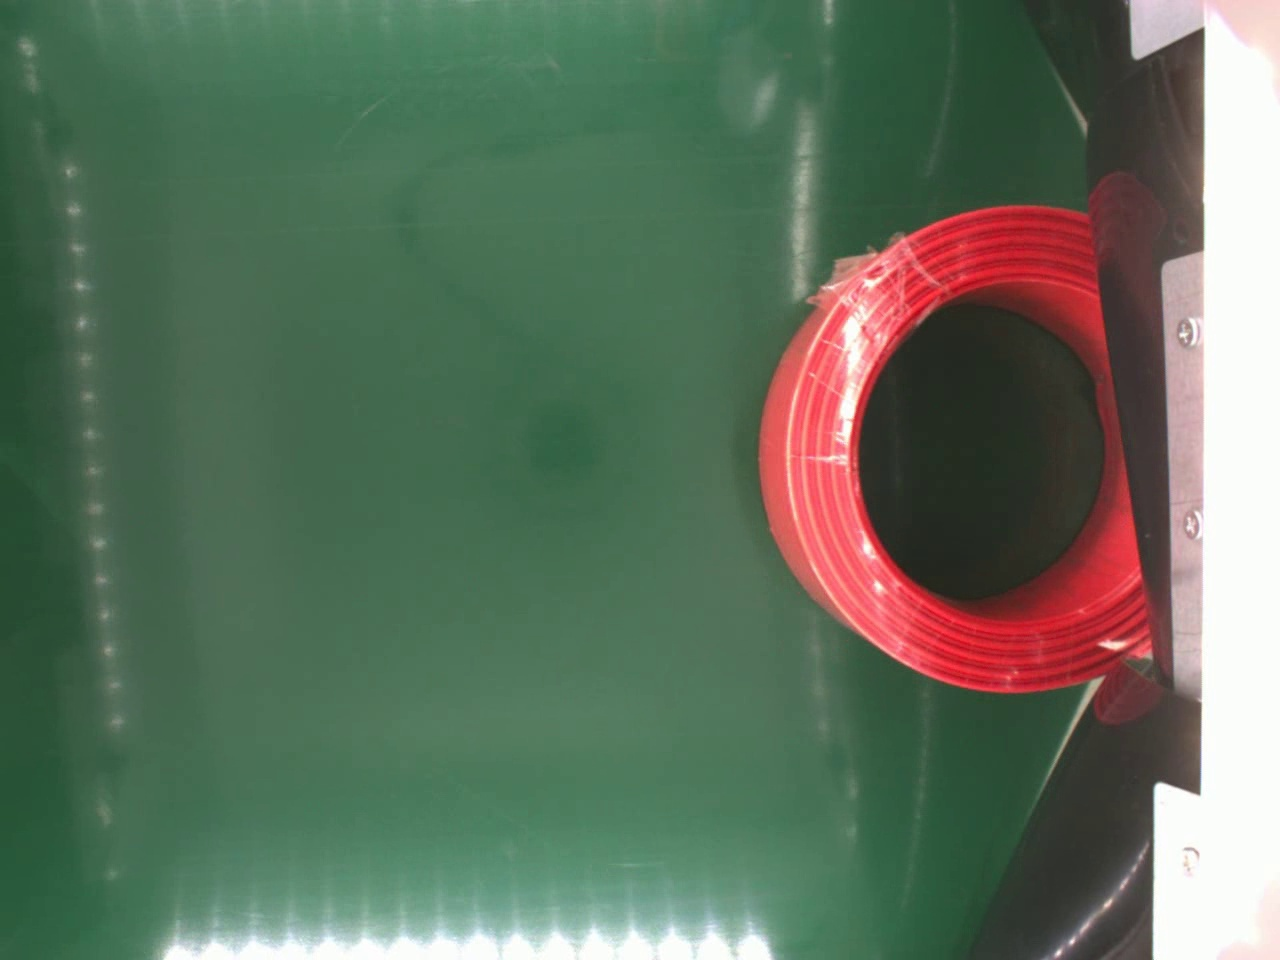red: (755, 203, 1150, 693)
